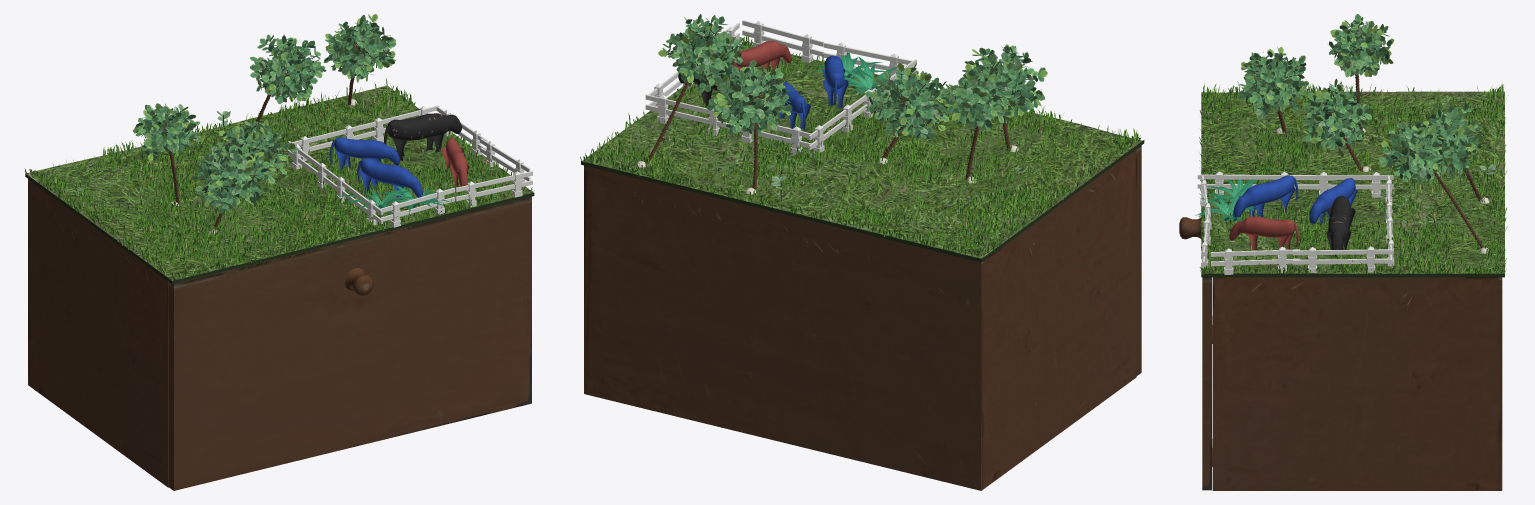
Rendered from maquete_15_01_solo_rural.glb.
The picture shows the model from 3 angles, left to right: view 1: azimuth 30°, elevation 25°; view 2: azimuth 150°, elevation 25°; view 3: azimuth 270°, elevation 25°; orthographic projection. The views are drawn at different scales.
Visible parts, largest first — view 1: Painel_Tampa_M15R, Corpo_Caixa_M15R, Manta_Grama_M15R, Laminas_Grama_M15R, Arvores_M15R, Cerca_M15R, Manta_Saia_M15R, Vaca_Preta_M15R, Vaca_Azul_B_M15R, Vaca_Azul_A_M15R, Touceiras_M15R, Vaca_Vermelha_M15R (+1 smaller); view 2: Corpo_Caixa_M15R, Manta_Grama_M15R, Laminas_Grama_M15R, Arvores_M15R, Cerca_M15R, Manta_Saia_M15R, Painel_Tampa_M15R, Vaca_Vermelha_M15R, Touceiras_M15R, Vaca_Azul_B_M15R, Vaca_Azul_A_M15R; view 3: Corpo_Caixa_M15R, Manta_Grama_M15R, Laminas_Grama_M15R, Arvores_M15R, Cerca_M15R, Painel_Tampa_M15R, Vaca_Azul_B_M15R, Manta_Saia_M15R, Vaca_Vermelha_M15R, Vaca_Preta_M15R, Touceiras_M15R, Vaca_Azul_A_M15R (+1 smaller).
Part boxes in pixels (x1,y1,x2,y2): Painel_Tampa_M15R: (169,196,531,490); Corpo_Caixa_M15R: (28,179,168,487); Manta_Grama_M15R: (27,85,533,280); Laminas_Grama_M15R: (25,78,534,280); Arvores_M15R: (133,14,396,235); Cerca_M15R: (288,105,532,227); Manta_Saia_M15R: (25,173,534,284); Vaca_Preta_M15R: (384,113,461,160); Vaca_Azul_B_M15R: (357,158,422,199); Vaca_Azul_A_M15R: (330,137,399,170); Touceiras_M15R: (339,186,449,217); Vaca_Vermelha_M15R: (441,138,469,186); Corpo_Caixa_M15R: (584,149,1136,490); Manta_Grama_M15R: (582,44,1142,258); Laminas_Grama_M15R: (580,34,1140,257); Arvores_M15R: (636,14,1047,194); Cerca_M15R: (645,20,916,154); Manta_Saia_M15R: (581,140,1144,262); Painel_Tampa_M15R: (1136,145,1141,375); Vaca_Vermelha_M15R: (733,40,791,72); Touceiras_M15R: (812,52,900,95); Vaca_Azul_B_M15R: (822,55,848,107); Vaca_Azul_A_M15R: (776,82,810,130); Corpo_Caixa_M15R: (1212,273,1502,490); Manta_Grama_M15R: (1201,91,1504,273); Laminas_Grama_M15R: (1199,81,1508,274); Arvores_M15R: (1238,14,1489,253); Cerca_M15R: (1197,171,1394,274); Painel_Tampa_M15R: (1202,277,1212,490); Vaca_Azul_B_M15R: (1233,175,1298,218); Manta_Saia_M15R: (1201,273,1504,277); Vaca_Vermelha_M15R: (1229,216,1298,250); Vaca_Preta_M15R: (1326,195,1355,256); Touceiras_M15R: (1195,172,1267,222); Vaca_Azul_A_M15R: (1309,178,1357,224).
Size of the model in its own units: 0.5425 by 0.4331 by 0.3989.
Materials: 10 (8 with a texture image).
